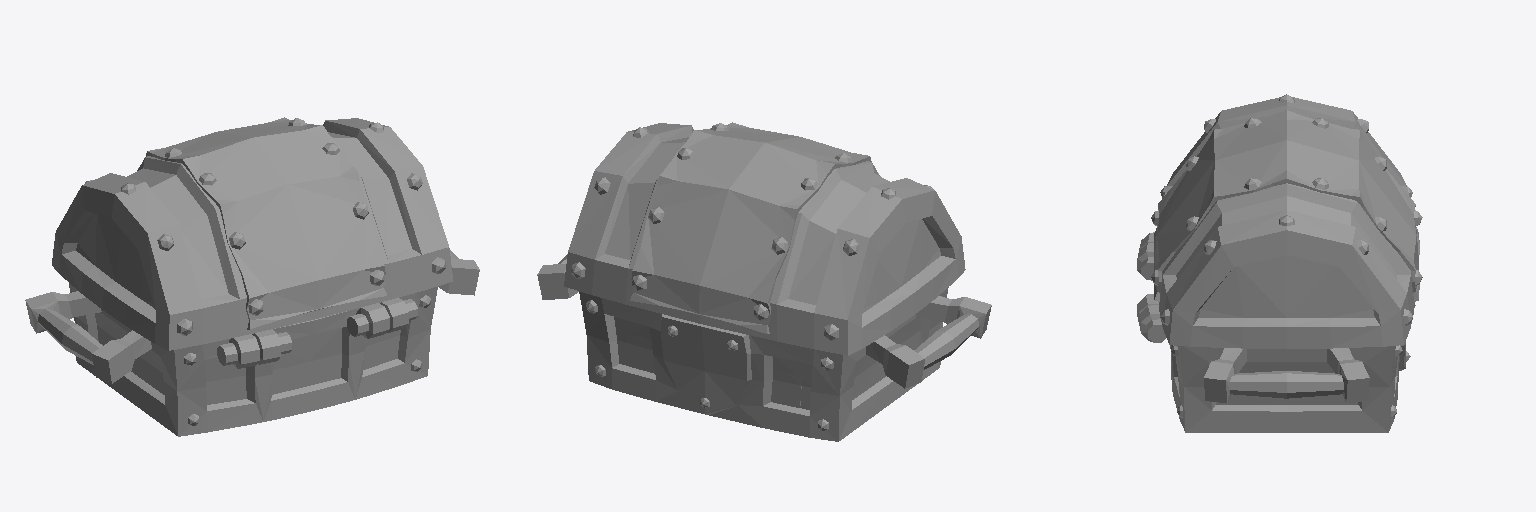
Rendered from chest7.obj.
The picture shows the model from 3 angles: view 1: azimuth 30°, elevation 25°; view 2: azimuth 150°, elevation 25°; view 3: azimuth 270°, elevation 25°; orthographic projection.
Visible parts, largest first — view 1: chest7; view 2: chest7; view 3: chest7.
Part boxes in pixels (x1,y1,x2,y2): chest7: (25,117,479,436); chest7: (537,122,991,441); chest7: (1137,94,1422,432).
Size of the model in its own units: 2.46 by 1.43 by 1.59.